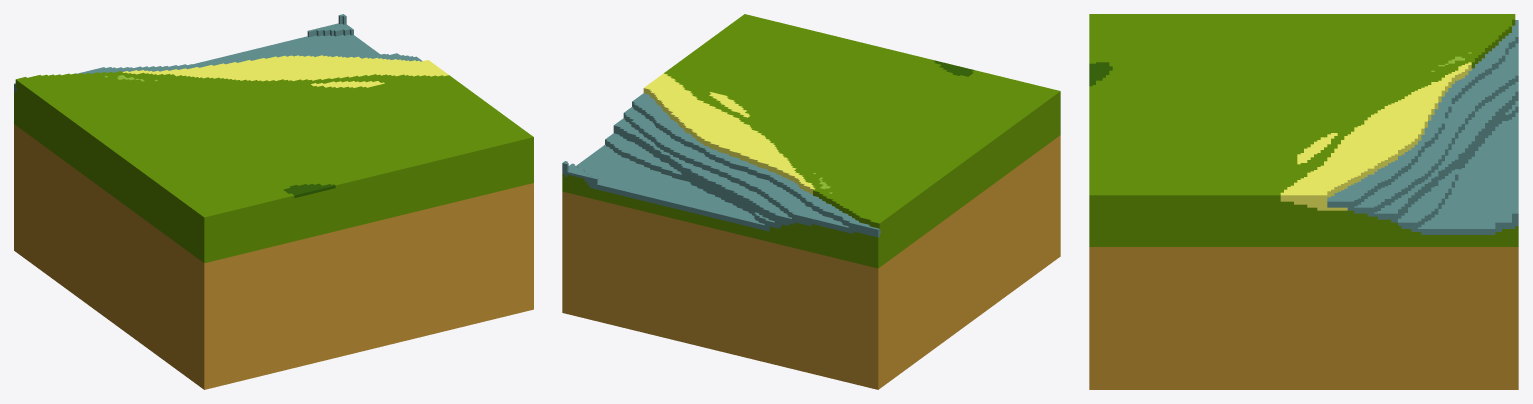
The picture shows the model from 3 angles, left to right: view 1: azimuth 30°, elevation 25°; view 2: azimuth 150°, elevation 25°; view 3: azimuth 270°, elevation 25°; orthographic projection. The views are drawn at different scales.
Parts seen in each view (by area): view 1: 9J; view 2: 9J; view 3: 9J.
Part boxes in pixels (bbox=[...]): 9J: bbox=[14, 14, 533, 389]; 9J: bbox=[562, 14, 1060, 389]; 9J: bbox=[1089, 14, 1518, 389].
Bounding box in the file's own units: 12.8 × 6.4 × 12.8.
Materials: 1 (1 with a texture image).
